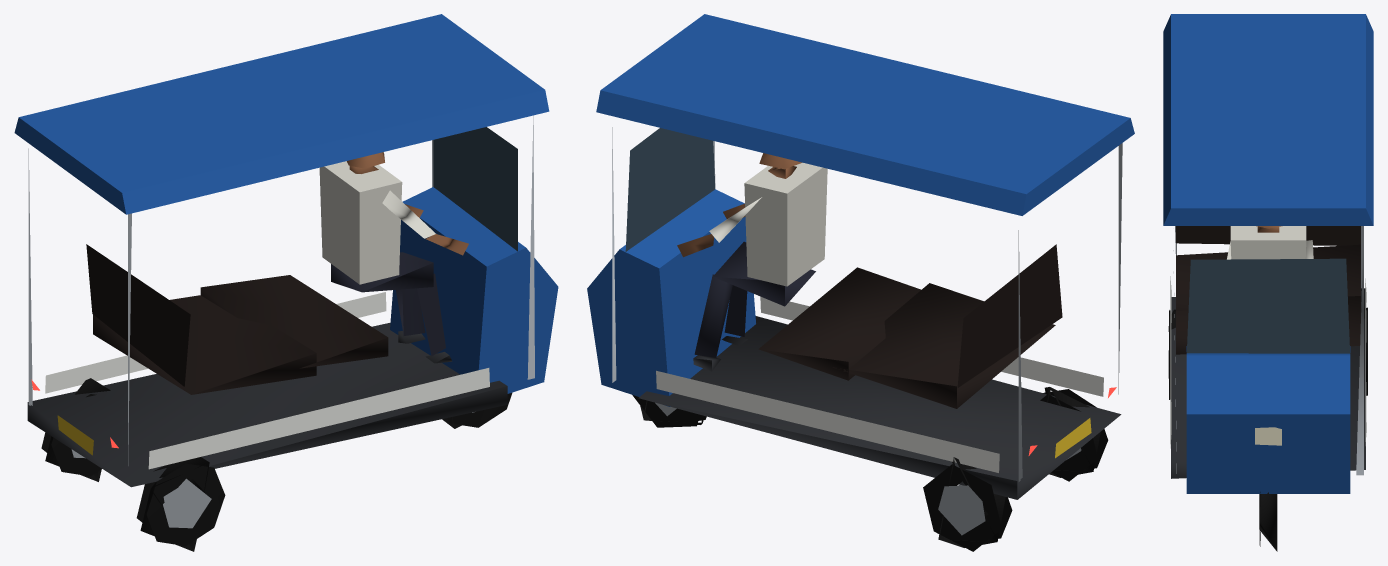
File: e_rickshaw_lod1.glb
3 views of the same model, side by side, from view 1: azimuth 30°, elevation 25°; view 2: azimuth 150°, elevation 25°; view 3: azimuth 270°, elevation 25° (orthographic). The views are drawn at different scales.
Parts seen in each view (by area): view 1: e_rickshaw_body, wheel_rr.001, wheel_rl.001, wheel_f.003; view 2: e_rickshaw_body, wheel_rl.001, wheel_rr.001, wheel_f.003; view 3: e_rickshaw_body, wheel_f.003, wheel_rr.001.
Boxes of the visible parts, bbox=[...] form: e_rickshaw_body: bbox=[14, 14, 558, 487]; wheel_rr.001: bbox=[136, 457, 225, 551]; wheel_rl.001: bbox=[41, 378, 110, 481]; wheel_f.003: bbox=[442, 393, 512, 428]; e_rickshaw_body: bbox=[587, 14, 1134, 499]; wheel_rl.001: bbox=[923, 457, 1012, 551]; wheel_rr.001: bbox=[1040, 387, 1108, 481]; wheel_f.003: bbox=[632, 395, 706, 427]; e_rickshaw_body: bbox=[1163, 14, 1373, 493]; wheel_f.003: bbox=[1259, 492, 1277, 551]; wheel_rr.001: bbox=[1168, 309, 1175, 399].
Size of the model in its own units: 2.51 by 2 by 1.08.
Materials: 2 (1 with a texture image).
